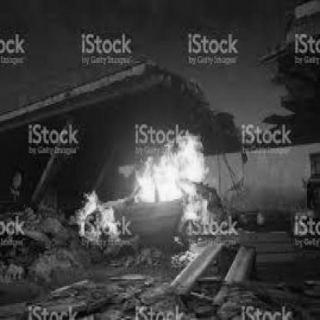Fire: (71, 114, 250, 251)
